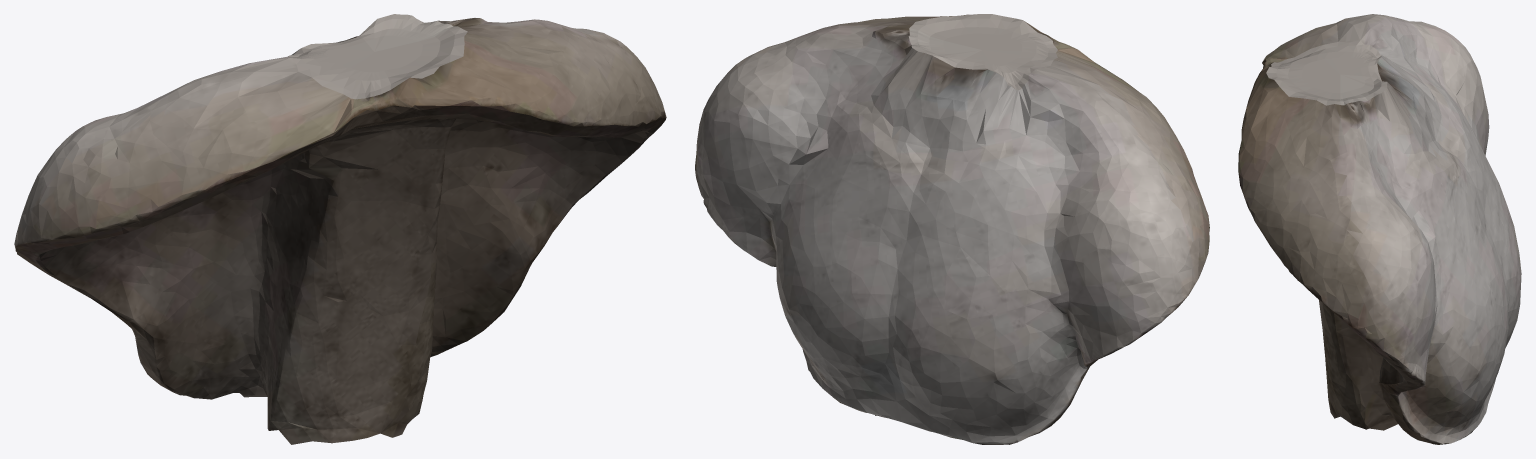
The model's file is Zeus Torso.obj.
3 renders of one model, left to right at view 1: azimuth 30°, elevation 25°; view 2: azimuth 150°, elevation 25°; view 3: azimuth 270°, elevation 25°, orthographic. The views are drawn at different scales.
Parts seen in each view (by area): view 1: zeus-2; view 2: zeus-2; view 3: zeus-2.
Part boxes in pixels (x1=…): zeus-2: x1=14, y1=14, x2=666, y2=444; zeus-2: x1=695, y1=14, x2=1209, y2=444; zeus-2: x1=1238, y1=14, x2=1521, y2=444.
Size of the model in its own units: 0.9319 by 0.5834 by 0.4401.
